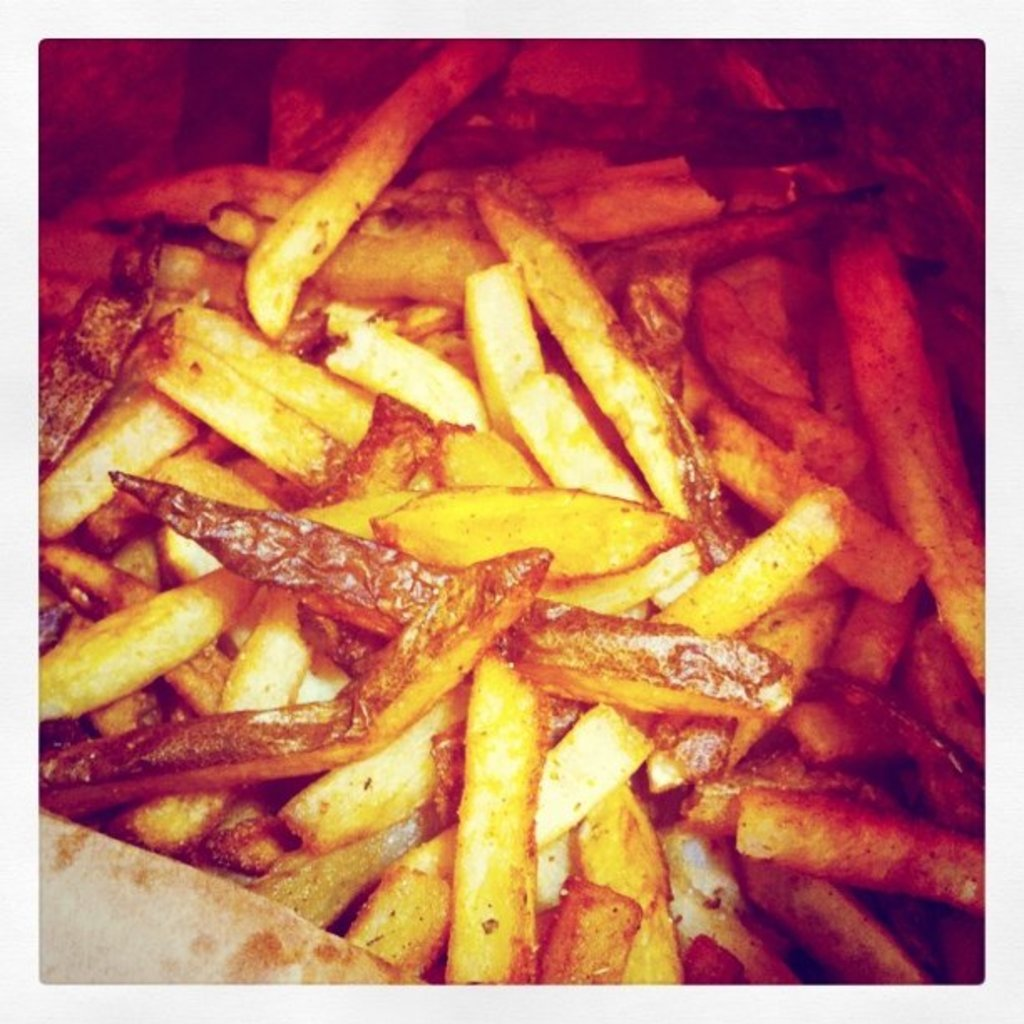French fries: (0, 1, 995, 1022)
